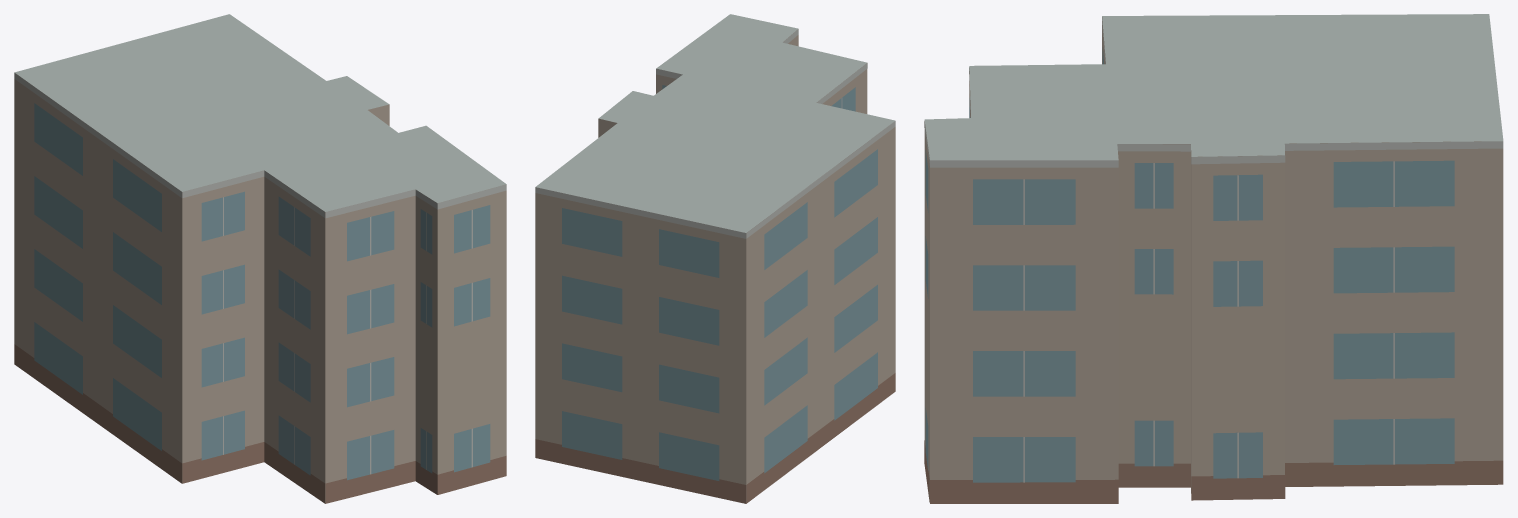
File: survey-upis-32629178.glb
3 views of the same model, side by side, from view 1: azimuth 30°, elevation 25°; view 2: azimuth 150°, elevation 25°; view 3: azimuth 270°, elevation 25° (orthographic). The views are drawn at different scales.
Parts seen in each view (by area): view 1: survey-upis-32629178.tmp; view 2: survey-upis-32629178.tmp; view 3: survey-upis-32629178.tmp.
Boxes of the visible parts, x1,y1,x2,y2 form: survey-upis-32629178.tmp: (14,14,506,503); survey-upis-32629178.tmp: (535,14,895,503); survey-upis-32629178.tmp: (924,14,1503,503).
Bounding box in the file's own units: 10.33 × 11.3 × 17.27.
